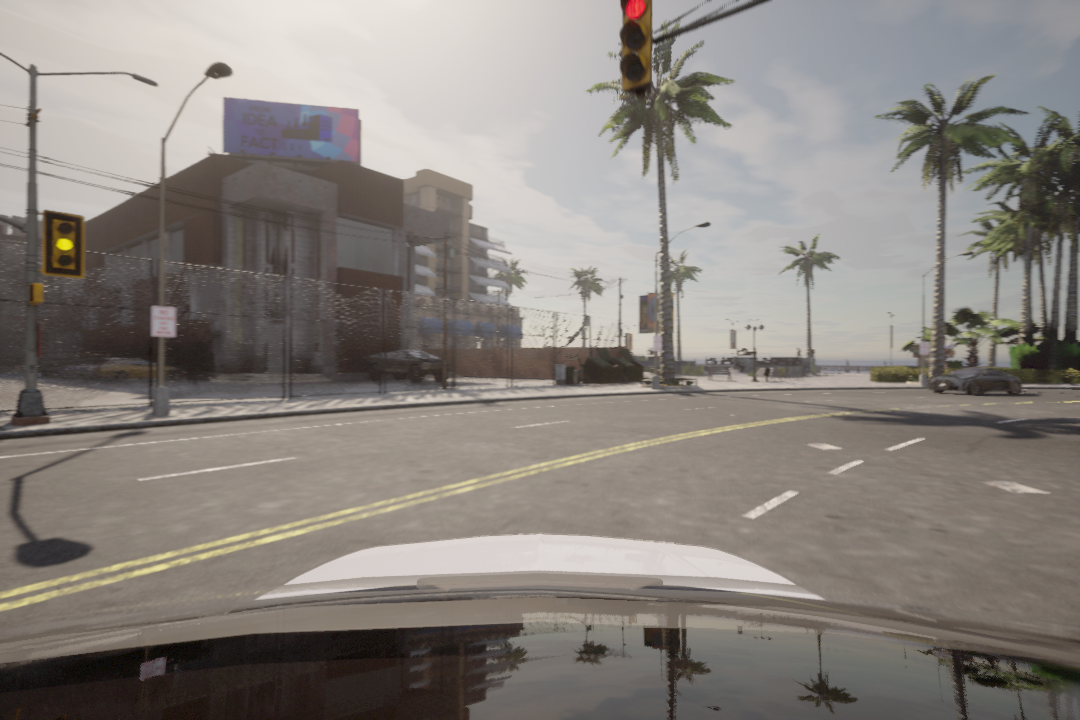TrafficLight: (36, 207, 88, 281), (621, 1, 653, 96)
